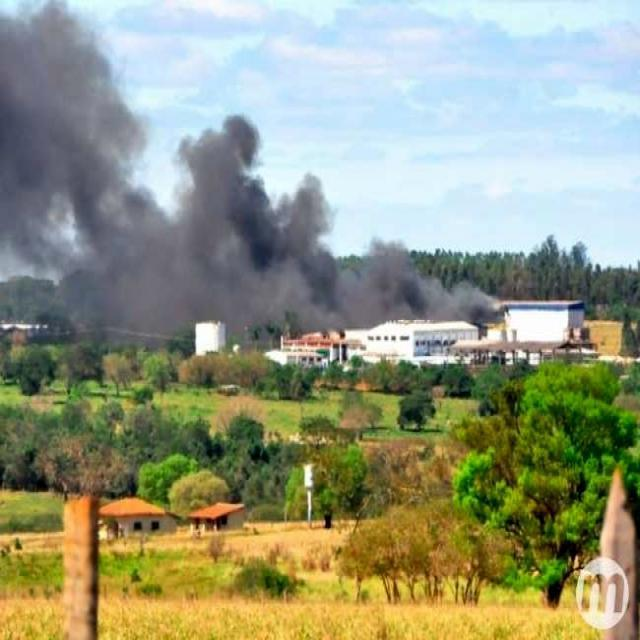Smoke: (0, 0, 290, 338), (308, 230, 501, 318)
